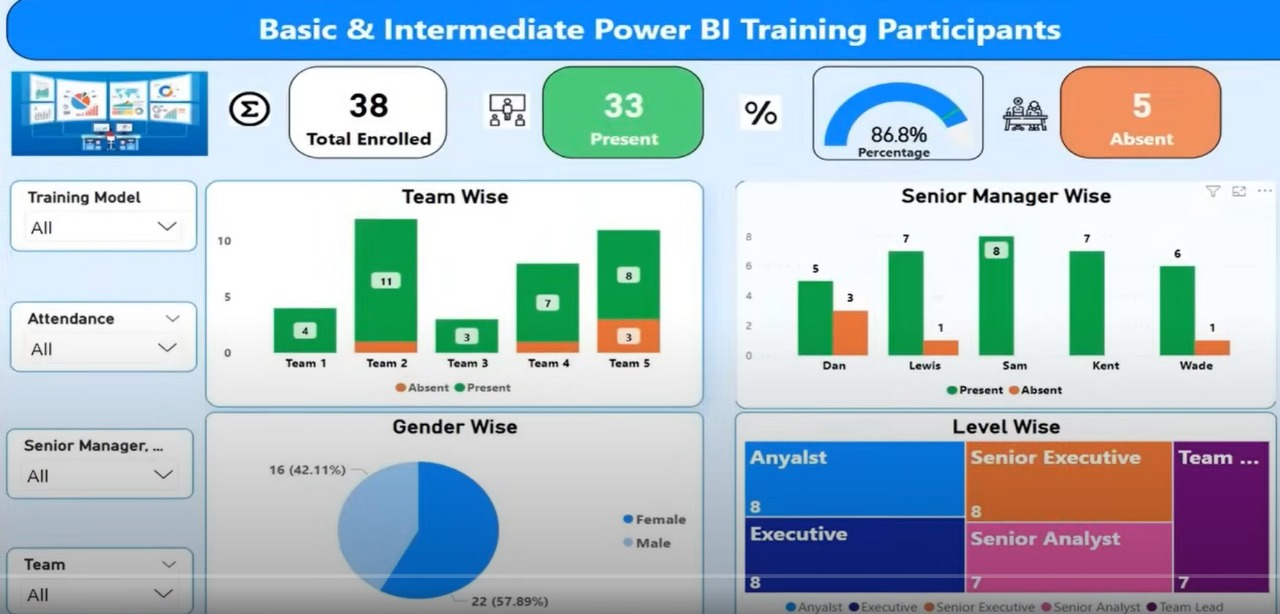

Layout of this report page (visuals, bound fields, positions):
{"tool":"powerbi","page":{"name":"Page 1","canvas":[1280,720],"ordinal":0},"visuals":[{"type":"slicer","fields":{"Values":["Sheet1.Training Model"]},"box":[20.3,241.8,212.7,97.5],"z":0},{"type":"slicer","fields":{"Values":["Sheet1.Attendance"]},"box":[22.8,359.5,211.4,97.5],"z":1000},{"type":"slicer","fields":{"Values":["Sheet1.Senior Manager"]},"box":[21.5,475.9,211.4,97.5],"z":2000},{"type":"slicer","fields":{"Values":["Sheet1.Team"]},"box":[22.8,598.7,210.1,92.4],"z":3000},{"type":"card","fields":{"Values":["Sheet1.Total Enrolled"]},"box":[287.1,110,150,114.3],"z":4000},{"type":"pieChart","title":"Gender Wise","fields":{"Category":["Sheet1.Gender"],"Y":["Sheet1.Please enter your Employee ID:"]},"box":[287.1,475.7,417.1,215.7],"z":5000},{"type":"columnChart","title":"Team Wise","fields":{"Y":["Sheet1.Please enter your Employee ID:"],"Category":["Sheet1.Team"],"Series":["Sheet1.Attendance"]},"box":[287.1,241.4,417.1,215.7],"z":6000},{"type":"clusteredColumnChart","title":"Senior Manager Wise","fields":{"Category":["Sheet1.Senior Manager"],"Y":["Sheet1.Please enter your Employee ID:"],"Series":["Sheet1.Attendance"]},"box":[737.1,241.4,502.9,215.7],"z":7000},{"type":"treemap","title":"Level Wise","fields":{"Values":["Sheet1.Please enter your Employee ID:"],"Group":["Sheet1.Job Level"]},"box":[737.1,475.7,502.9,215.7],"z":8000},{"type":"gauge","fields":{"Y":["Sheet1.Percentage of Attendance"]},"box":[737.1,110,287.1,114.3],"z":9000},{"type":"card","fields":{"Values":["Sheet1.Present"]},"box":[521.4,110,150,114.3],"z":10000},{"type":"card","fields":{"Values":["Sheet1.Absent"]},"box":[1090,110,150,114.3],"z":11000},{"type":"textbox","title":"Basic & Intermediate Power BI Training Participants","box":[25.7,12.9,1214.3,60],"z":12000},{"type":"image","box":[21.4,110,211.4,114.3],"z":13000},{"type":"image","box":[232.9,138.6,54.3,57.1],"z":14000},{"type":"image","box":[680,141.4,57.1,52.9],"z":15000},{"type":"image","box":[455.7,141.4,52.9,52.9],"z":16000},{"type":"image","box":[1034.3,138.6,55.7,55.7],"z":17000}]}

Visuals, with their boxes on the page's 1280x720 design canvas (x1, y1, x2, y2). These are canvas units, not pixel positions in the 1280x614 screenshot, which may show the page scaled, cropped or inside an application window:
slicer - Sheet1.Training Model: {"left": 20, "top": 242, "right": 233, "bottom": 339}
slicer - Sheet1.Attendance: {"left": 23, "top": 360, "right": 234, "bottom": 457}
slicer - Sheet1.Senior Manager: {"left": 22, "top": 476, "right": 233, "bottom": 573}
slicer - Sheet1.Team: {"left": 23, "top": 599, "right": 233, "bottom": 691}
card - Sheet1.Total Enrolled: {"left": 287, "top": 110, "right": 437, "bottom": 224}
"Gender Wise" pieChart: {"left": 287, "top": 476, "right": 704, "bottom": 691}
"Team Wise" columnChart: {"left": 287, "top": 241, "right": 704, "bottom": 457}
"Senior Manager Wise" clusteredColumnChart: {"left": 737, "top": 241, "right": 1240, "bottom": 457}
"Level Wise" treemap: {"left": 737, "top": 476, "right": 1240, "bottom": 691}
gauge - Sheet1.Percentage of Attendance: {"left": 737, "top": 110, "right": 1024, "bottom": 224}
card - Sheet1.Present: {"left": 521, "top": 110, "right": 671, "bottom": 224}
card - Sheet1.Absent: {"left": 1090, "top": 110, "right": 1240, "bottom": 224}
"Basic & Intermediate Power BI Training Participants" textbox: {"left": 26, "top": 13, "right": 1240, "bottom": 73}
image: {"left": 21, "top": 110, "right": 233, "bottom": 224}
image: {"left": 233, "top": 139, "right": 287, "bottom": 196}
image: {"left": 680, "top": 141, "right": 737, "bottom": 194}
image: {"left": 456, "top": 141, "right": 509, "bottom": 194}
image: {"left": 1034, "top": 139, "right": 1090, "bottom": 194}
